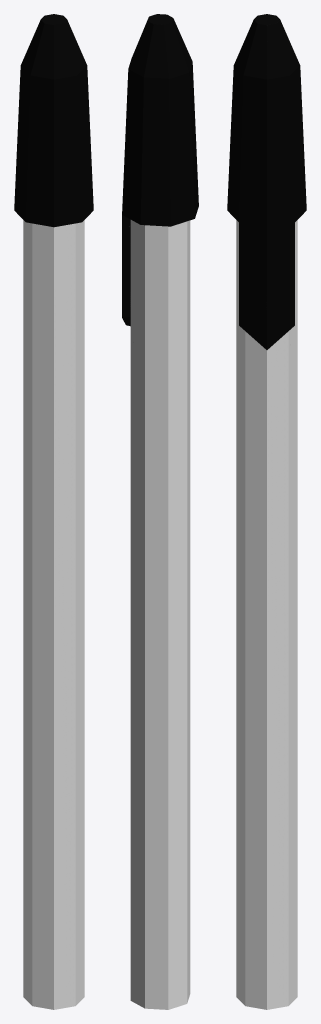
File: Pen_Black.fbx
3 views of the same model, side by side, from view 1: azimuth 90°, elevation 25°; view 2: azimuth 150°, elevation 25°; view 3: azimuth 270°, elevation 25° (orthographic).
Parts seen in each view (by area): view 1: Pen_Black; view 2: Pen_Black; view 3: Pen_Black.
Boxes of the visible parts, <box> form: Pen_Black: <box>14,14,93,1009</box>; Pen_Black: <box>122,14,198,1009</box>; Pen_Black: <box>227,14,306,1009</box>.
Bounding box in the file's own units: 1.29 × 17.5 × 1.29.
